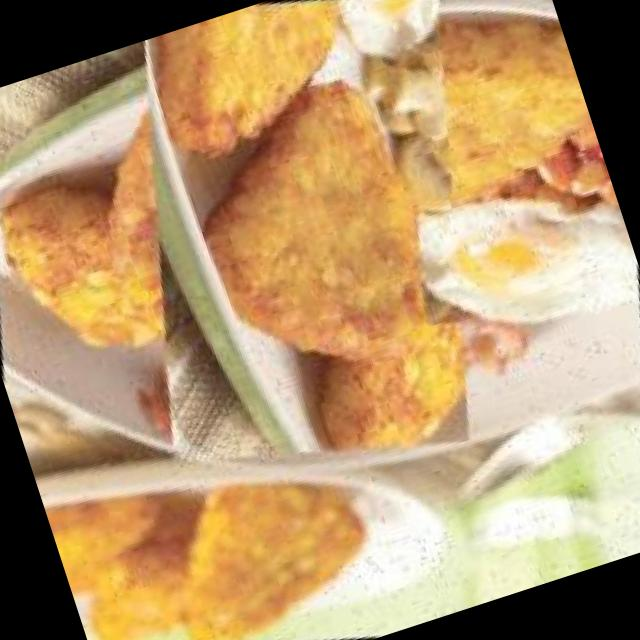fried_eggs: (390, 154, 640, 372)
triangle_hash_brown: (0, 0, 620, 498)
